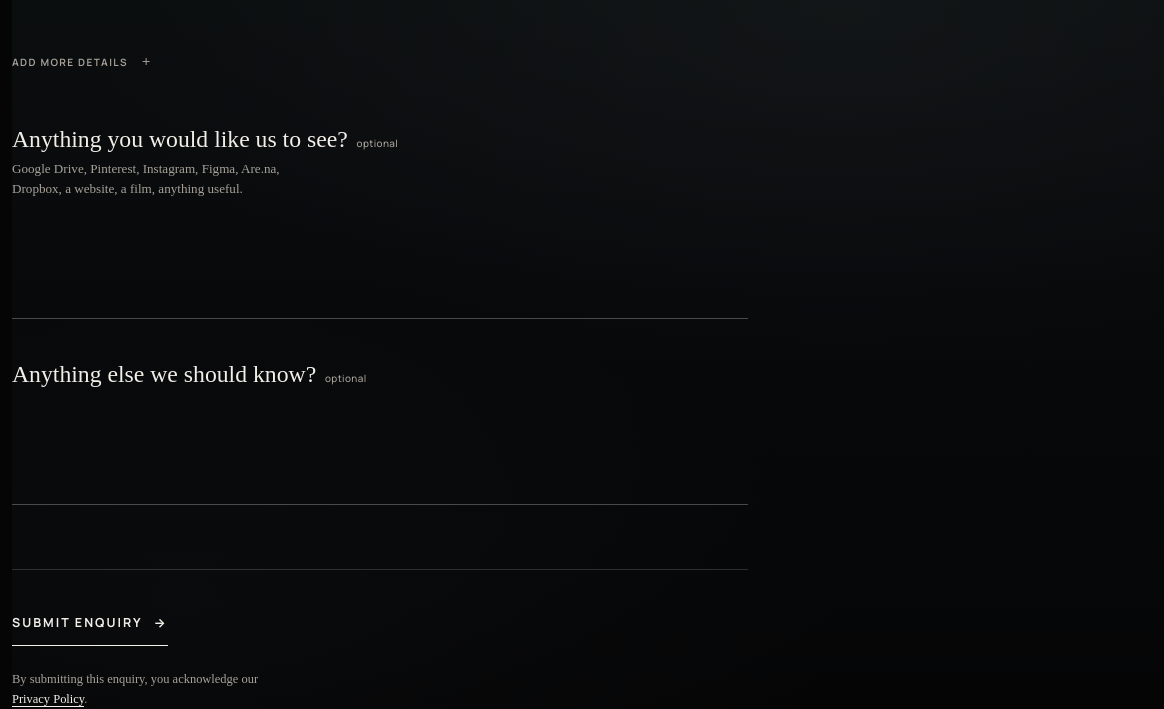
simplified inquiry form › focuses the first invalid field with natural copy
The image size is (1164, 709).
(page scrolled)
Click the button "Submit enquiry →" at point(90, 624), box [12,602,168,646]
(page scrolled)
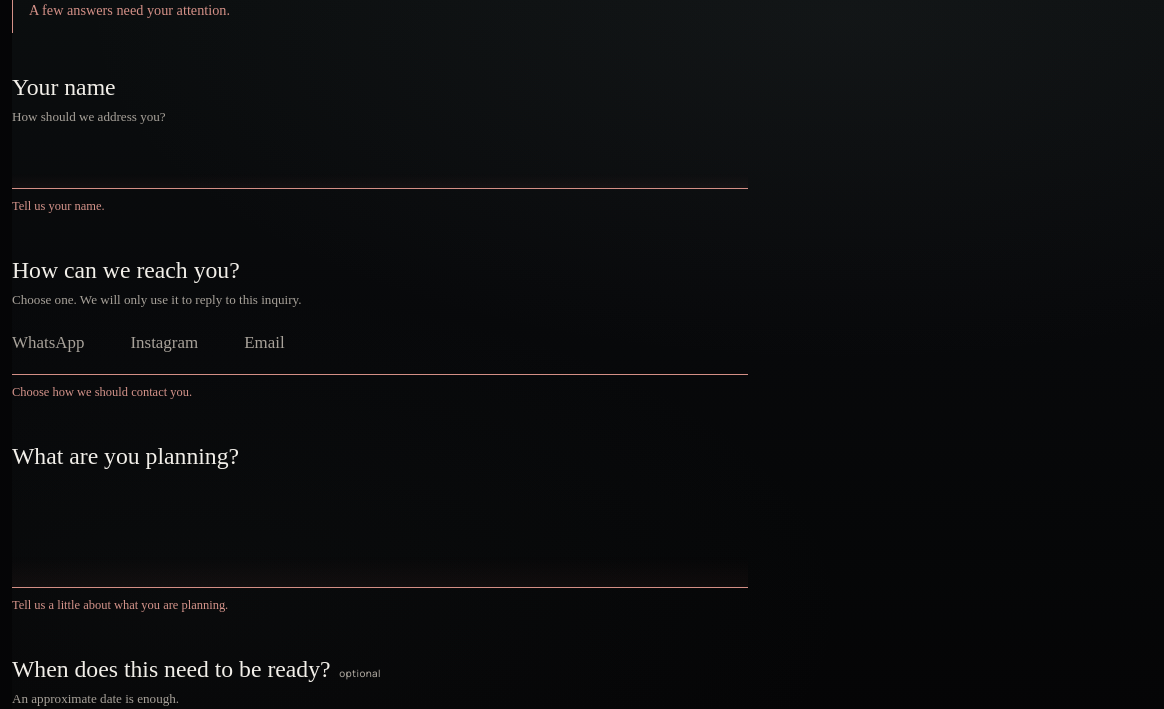
Expected: the text "Tell us your name." is shown, [12,199,105,213]
